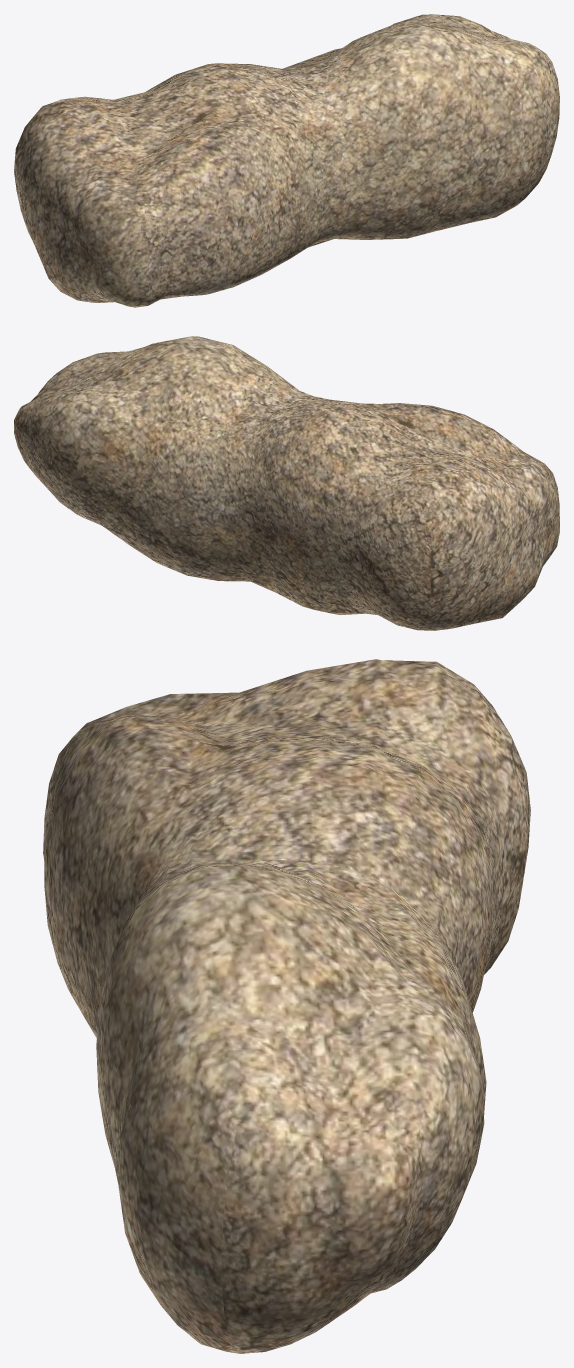
File: Stone04_v01.glb
The picture shows the model from 3 angles, top to bottom: view 1: azimuth 30°, elevation 25°; view 2: azimuth 150°, elevation 25°; view 3: azimuth 270°, elevation 25°; orthographic projection. The views are drawn at different scales.
Visible parts, largest first — view 1: SM_Stone04; view 2: SM_Stone04; view 3: SM_Stone04.
Boxes of the visible parts, x1,y1,x2,y2 form: SM_Stone04: (14, 14, 559, 307); SM_Stone04: (14, 336, 559, 630); SM_Stone04: (43, 659, 530, 1353).
Size of the model in its own units: 3.02 by 1.19 by 1.31.
1 material, 1 textured.
